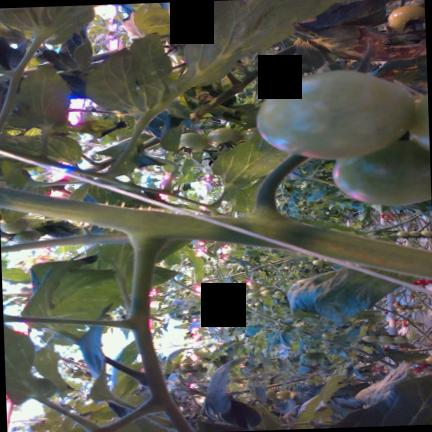6kp_peduncle: (187, 152, 336, 256)
6kp_petiole: (81, 201, 225, 299)
MainStem: (0, 186, 432, 279), (191, 68, 261, 122), (1, 233, 128, 251), (170, 276, 223, 300), (241, 305, 277, 320), (85, 157, 115, 171), (253, 263, 271, 271)
tomato: (257, 70, 413, 159), (333, 140, 431, 205), (180, 127, 242, 150), (409, 95, 429, 148), (388, 4, 424, 31), (206, 127, 241, 145), (164, 35, 185, 56), (0, 218, 27, 233), (13, 229, 41, 243), (241, 127, 259, 139), (179, 9, 198, 19), (275, 390, 290, 400), (377, 335, 393, 344), (405, 332, 420, 340), (362, 334, 377, 342), (393, 335, 407, 343), (272, 290, 284, 298), (191, 362, 203, 370), (247, 291, 260, 298), (260, 289, 273, 296), (179, 362, 190, 370), (175, 367, 187, 374), (409, 230, 421, 236), (312, 259, 324, 265), (249, 282, 259, 289), (421, 230, 432, 236), (236, 282, 247, 288), (171, 361, 179, 369), (425, 355, 432, 364), (64, 367, 73, 374), (83, 371, 91, 378), (397, 231, 408, 236), (422, 367, 432, 372), (412, 367, 422, 372), (396, 306, 404, 312), (393, 301, 400, 306), (413, 308, 422, 311), (405, 309, 412, 312)
